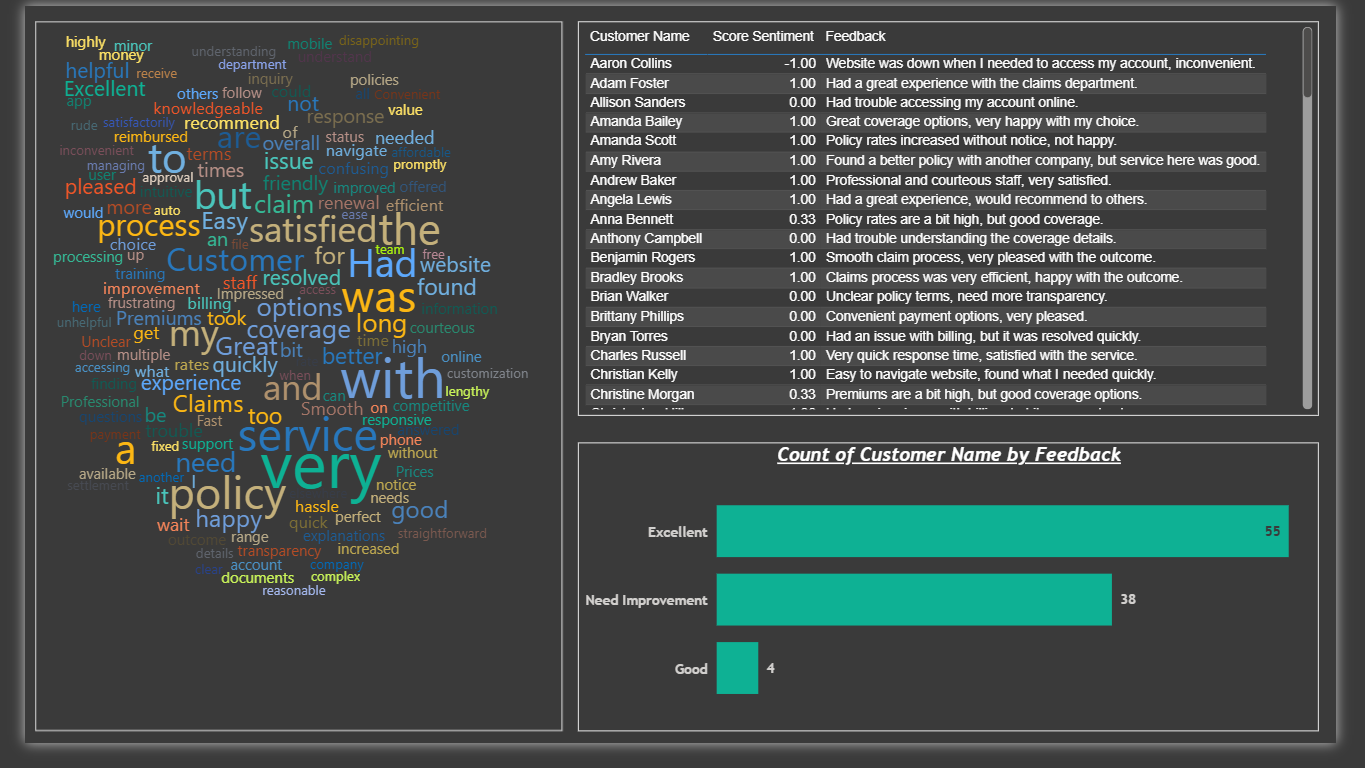

The dashboard page shown, as its layout file describes it:
{"tool":"powerbi","page":{"name":"Page 3","canvas":[1280,720],"ordinal":2},"visuals":[{"type":"WordCloud1447959067750","fields":{"Category":["Sheet1.Feedback"],"Values":["CountNonNull(Sheet1.Feedback)"]},"box":[10,15,515,693.3],"z":0},{"type":"barChart","title":"Count of Customer Name by Feedback","fields":{"Category":["Sheet1.Good/Improvement"],"Y":["CountNonNull(Sheet1.Customer Name)"]},"box":[540,426.7,723.3,281.7],"z":1},{"type":"tableEx","fields":{"Values":["Sheet1.Customer Name","Sheet1.Score Sentiment","Sheet1.Feedback"]},"box":[540,15,723.3,385],"z":2}]}

Visuals, with their boxes in screenshot pixels (x1, y1, x2, y2), scaled from the page's 1280x720 canvas onto the 1365x768 screenshot:
WordCloud1447959067750 - Sheet1.Feedback x CountNonNull(Sheet1.Feedback): [11, 16, 560, 756]
"Count of Customer Name by Feedback" barChart: [576, 455, 1347, 756]
tableEx - Sheet1.Customer Name x Sheet1.Score Sentiment: [576, 16, 1347, 427]
